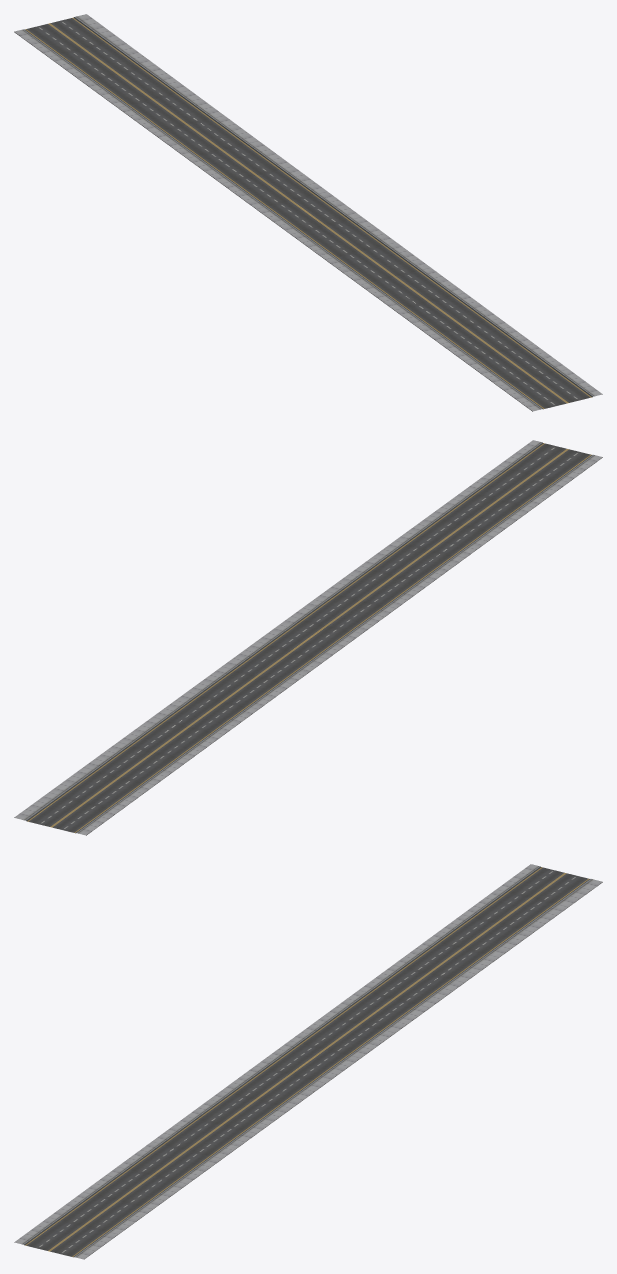
Rendered from road18.glb.
3 renders of one model, top to bottom at view 1: azimuth 30°, elevation 25°; view 2: azimuth 150°, elevation 25°; view 3: azimuth 330°, elevation 25°, orthographic.
Parts seen in each view (by area): view 1: Road_4X_Straight_City_Road_mat_0.007; view 2: Road_4X_Straight_City_Road_mat_0.007; view 3: Road_4X_Straight_City_Road_mat_0.007.
Part boxes in pixels (bbox=[...]): Road_4X_Straight_City_Road_mat_0.007: bbox=[14, 14, 602, 411]; Road_4X_Straight_City_Road_mat_0.007: bbox=[14, 440, 602, 835]; Road_4X_Straight_City_Road_mat_0.007: bbox=[14, 864, 602, 1259].
Size of the model in its own units: 31.4 by 0.1636 by 389.
Materials: 1 (1 with a texture image).
